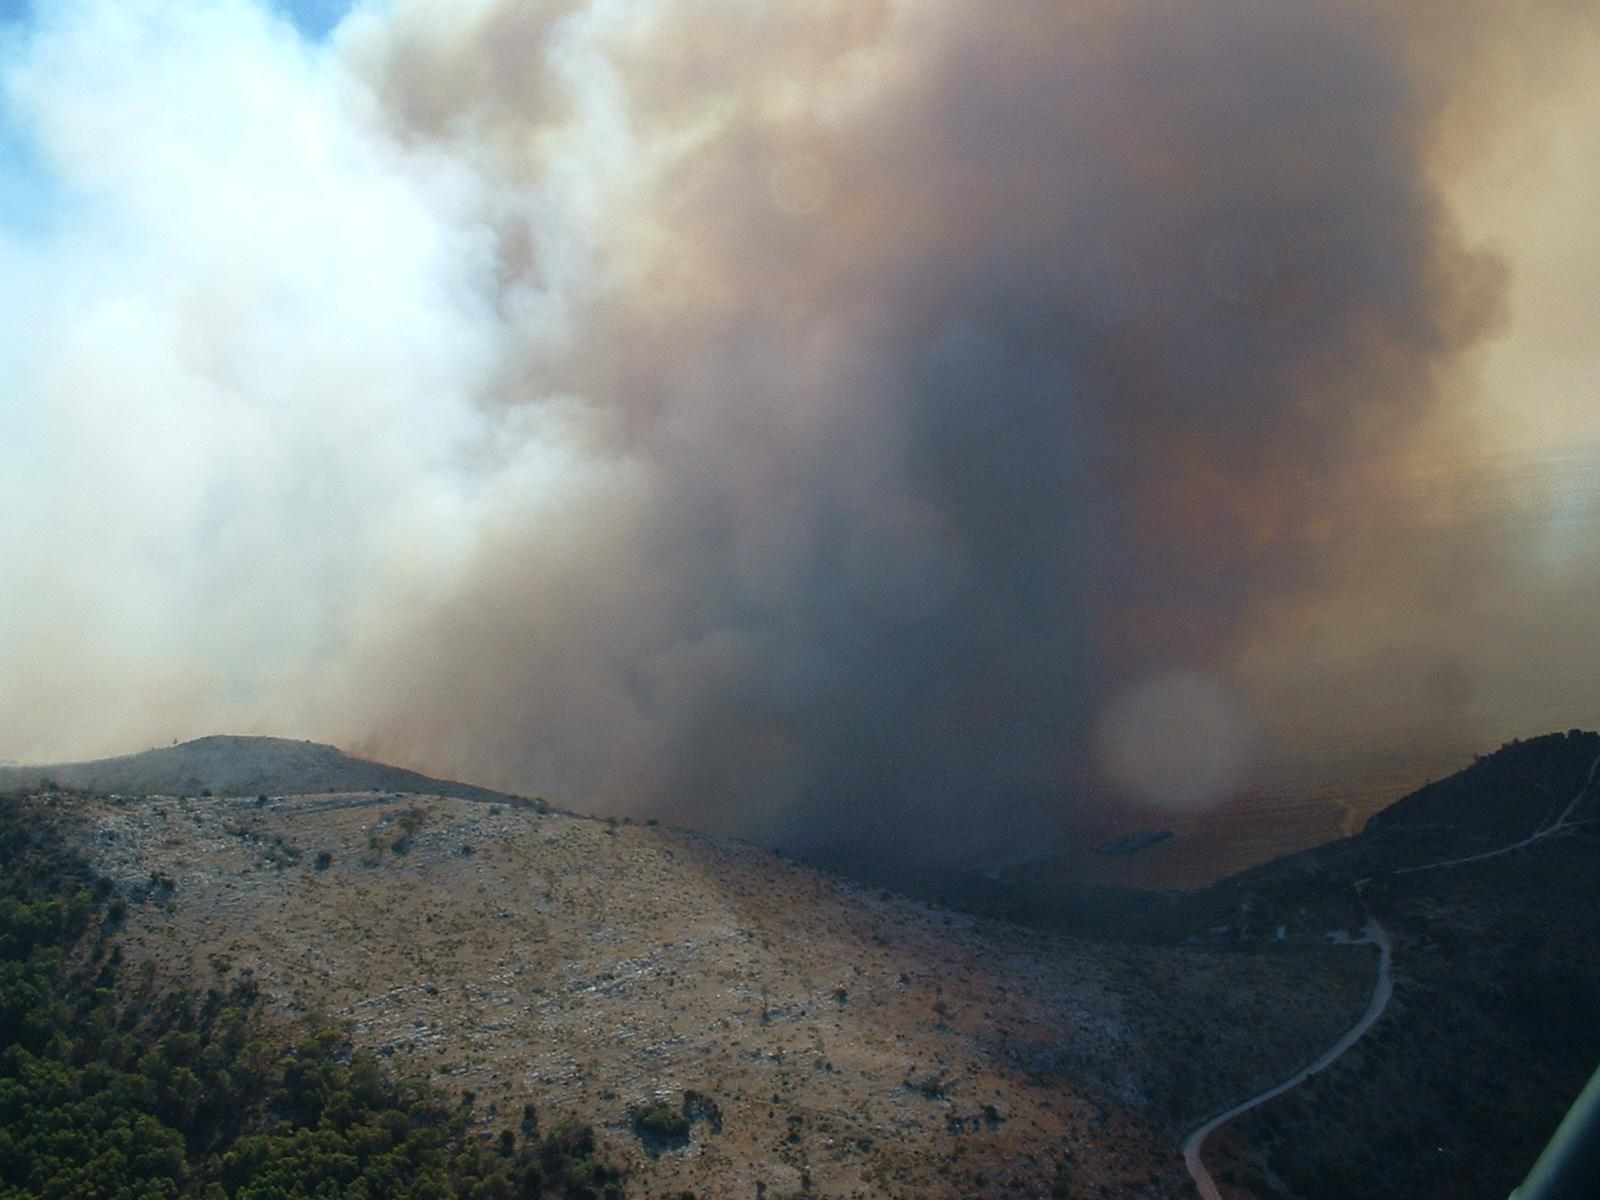Smoke: (401, 0, 1509, 901)
